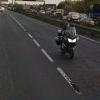Motorcycle: (49, 19, 85, 65)
